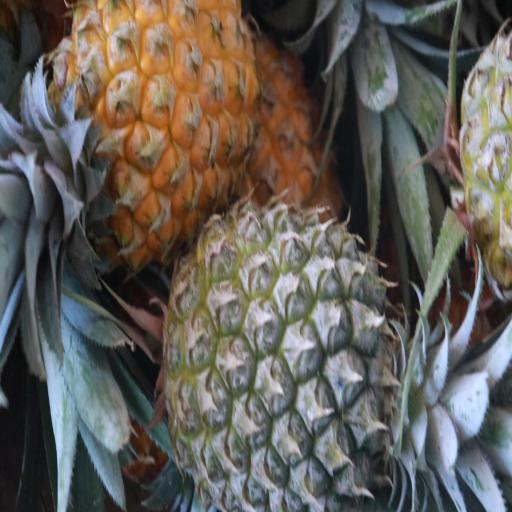Pineapple - v8 v1: (67, 0, 254, 259)
